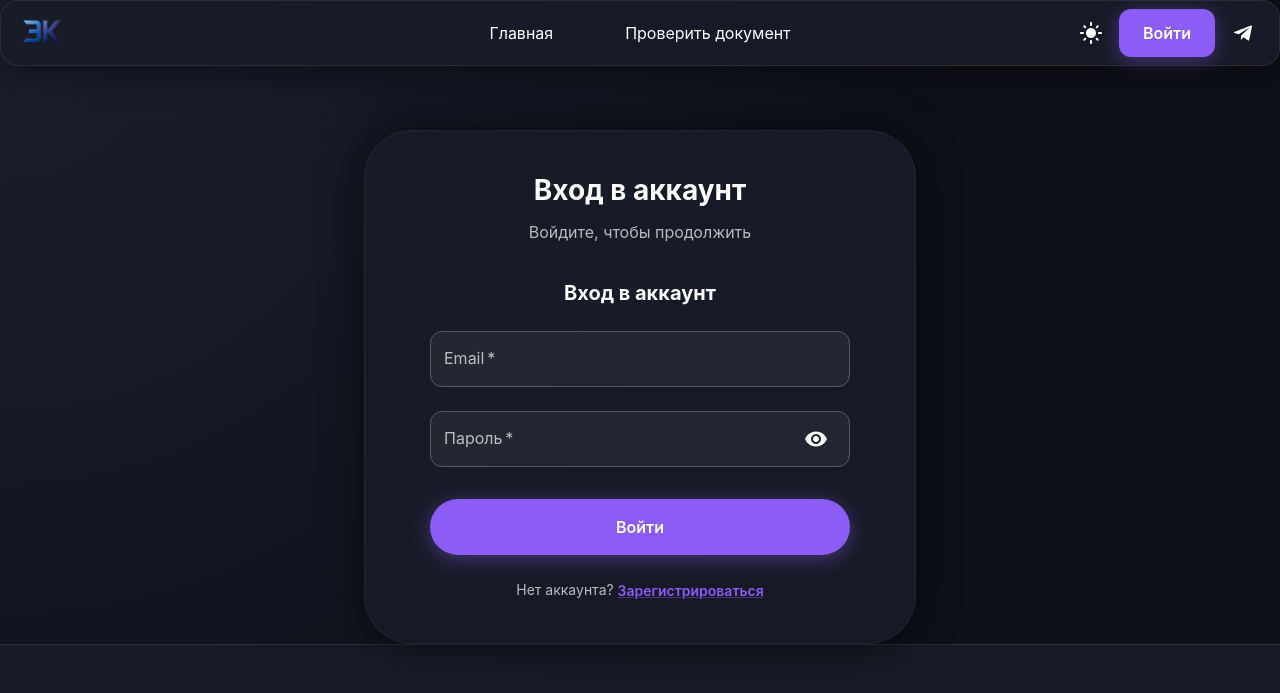
Процесс аутентификации › Вход в систему › должен показать ошибку при неверных данных
Step 1. Type "wrong@example.com" into the field labelled "Email *" → (640, 359), box top-left (430, 331), bottom-right (850, 387)
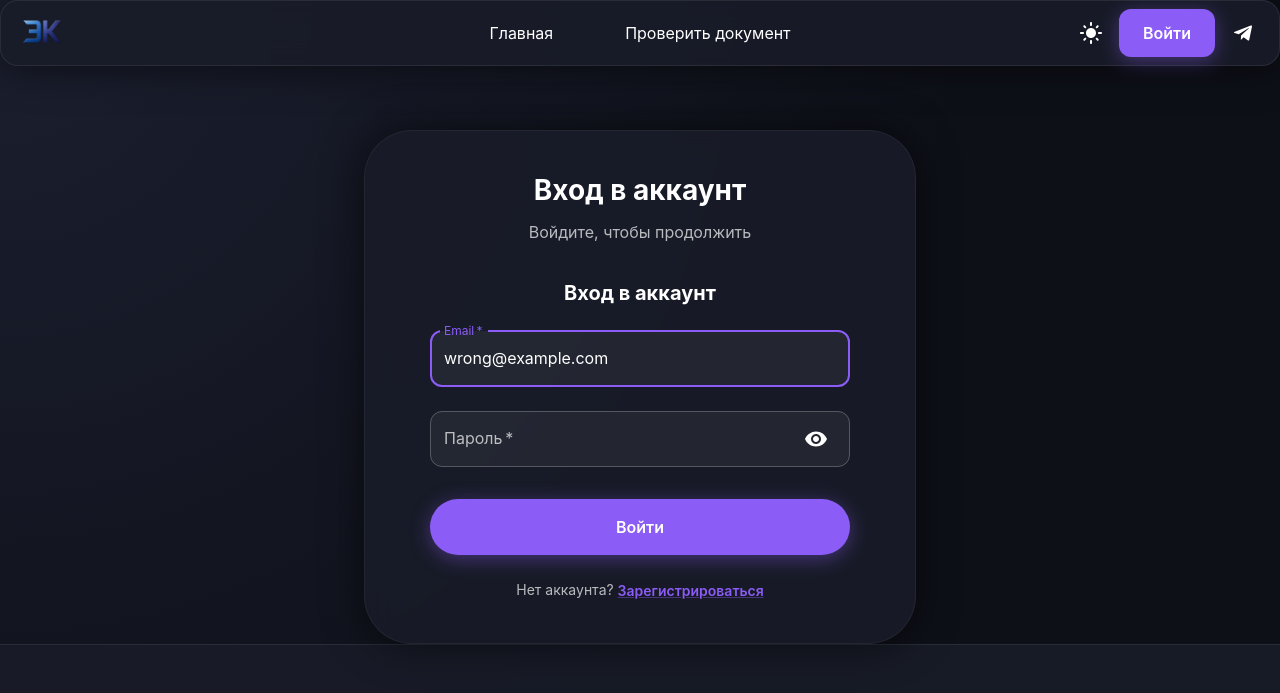
Step 2. Type "wrongpassword" into the password field labelled "Пароль *" → (609, 439), box top-left (430, 411), bottom-right (788, 467)
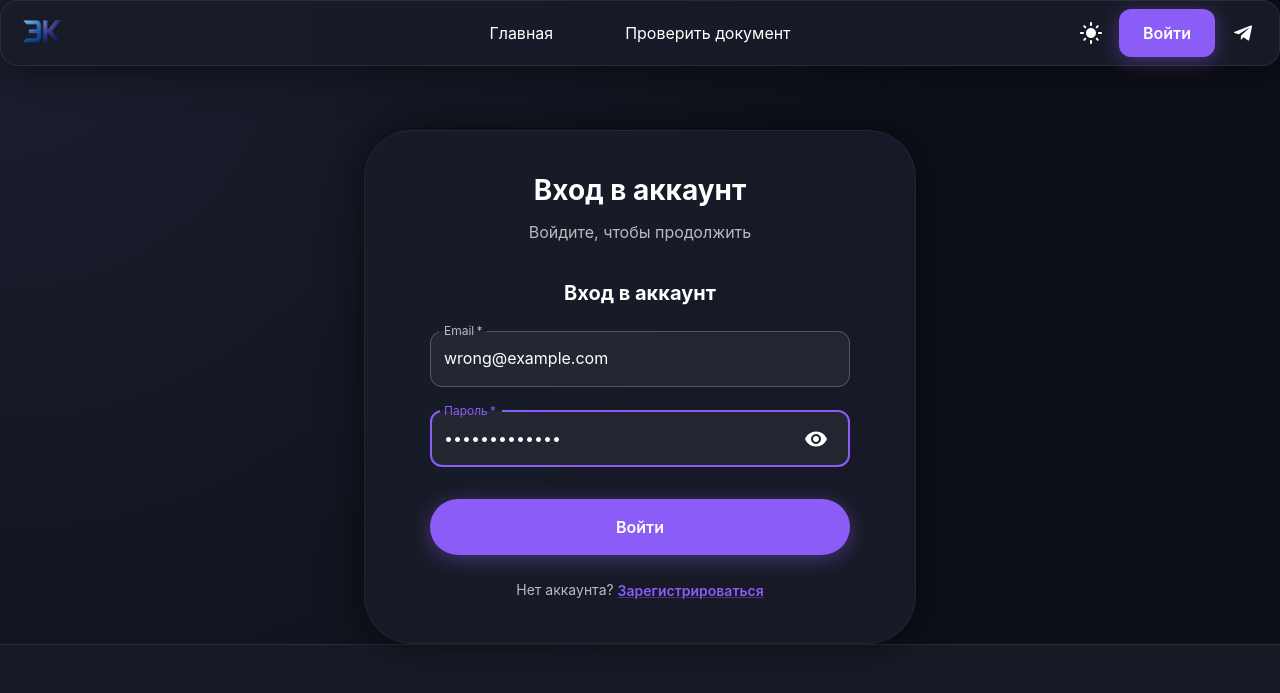
Step 3. Click the button "Войти" below "Пароль" → (640, 528), box top-left (430, 499), bottom-right (850, 556)
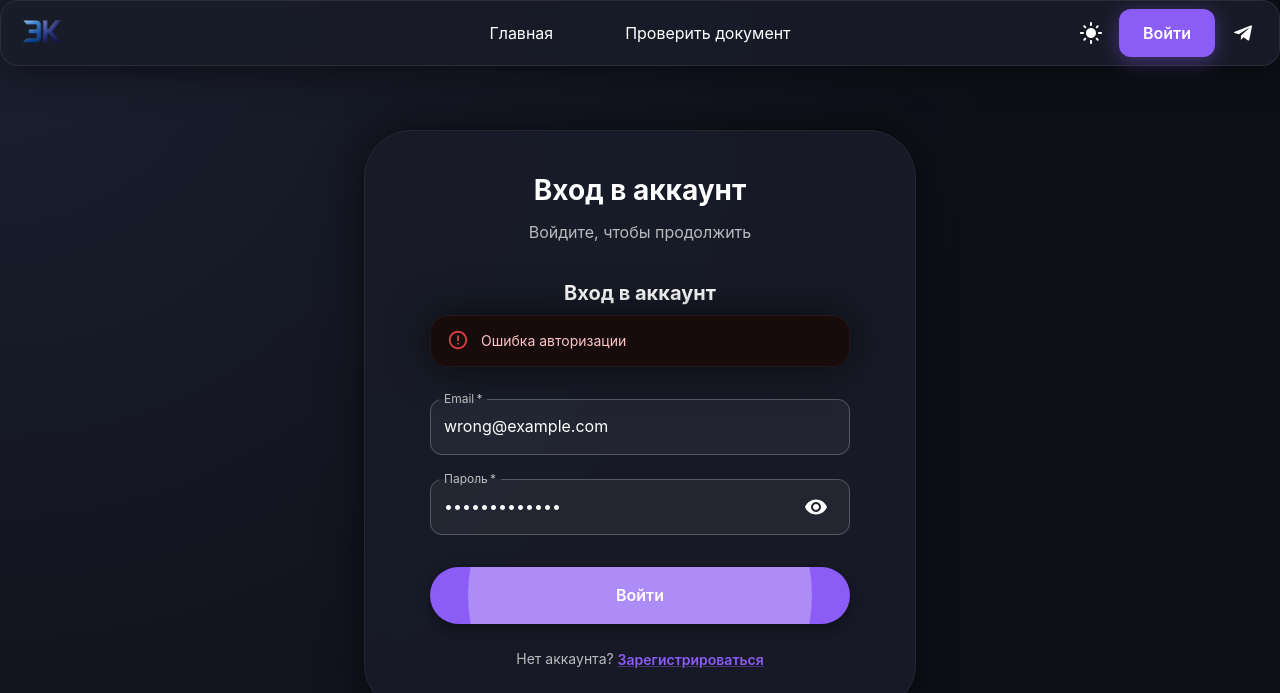
Check: the text "Ошибка авторизации" is shown, box top-left (481, 332), bottom-right (626, 349)
